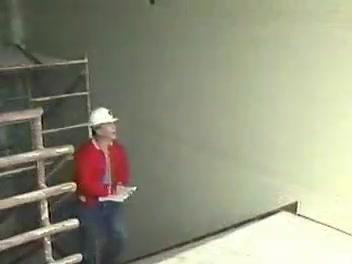no -hi-vis jacket: (76, 144, 133, 209)
